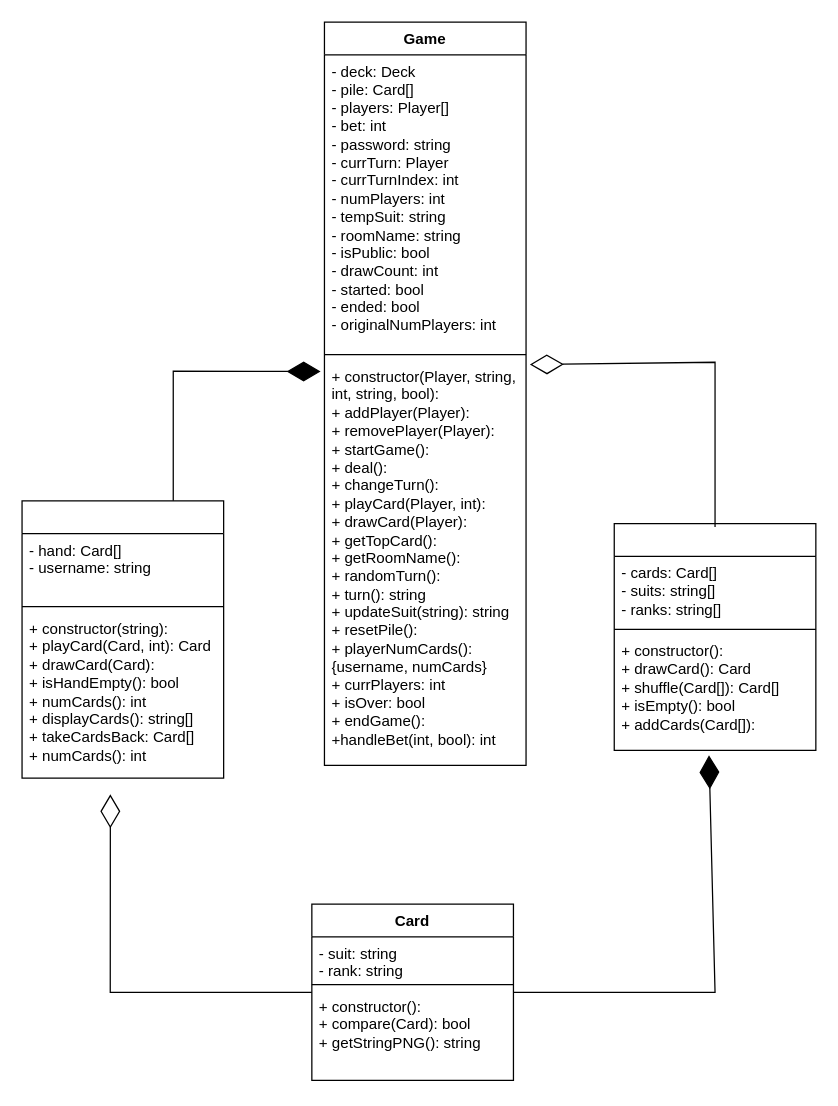
Image size: 838x1106. Some labels were removed from this diagram. Each missing label, with the box of its shape:
Deck: (613, 522, 816, 750)
Player: (21, 500, 224, 778)
